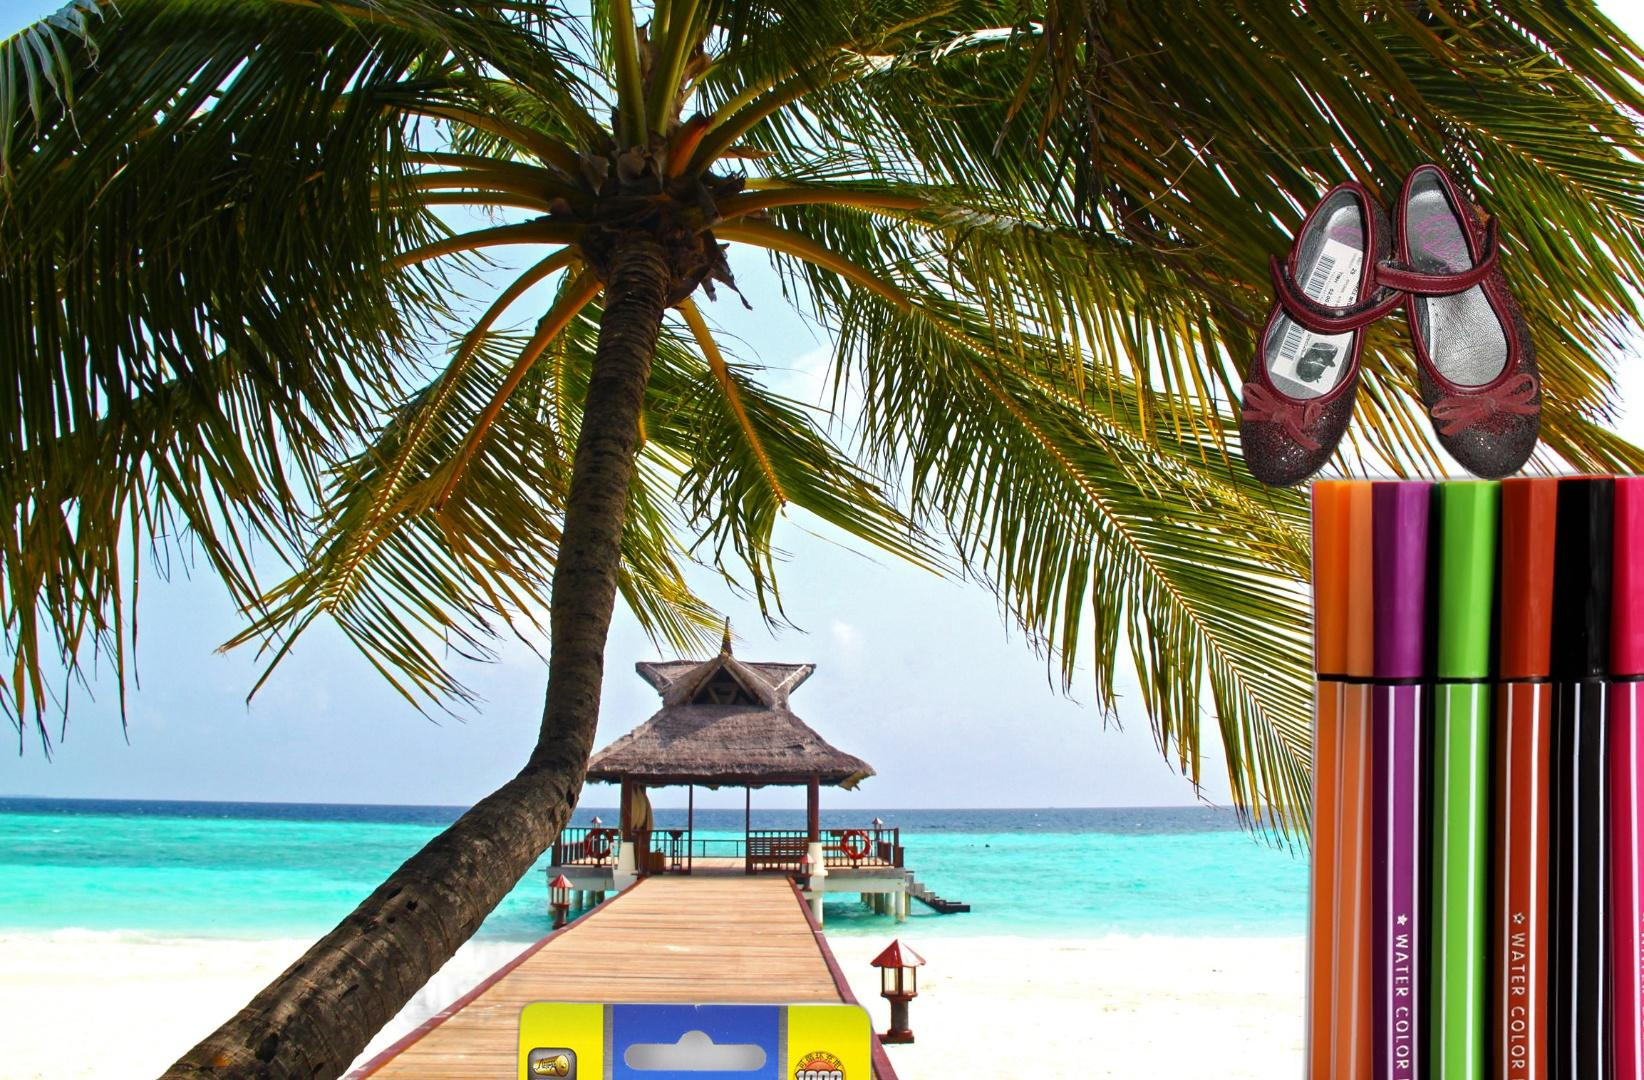battery: (386, 903, 986, 1080)
penholder: (1257, 460, 1644, 1080)
shoes: (1235, 159, 1546, 492)
